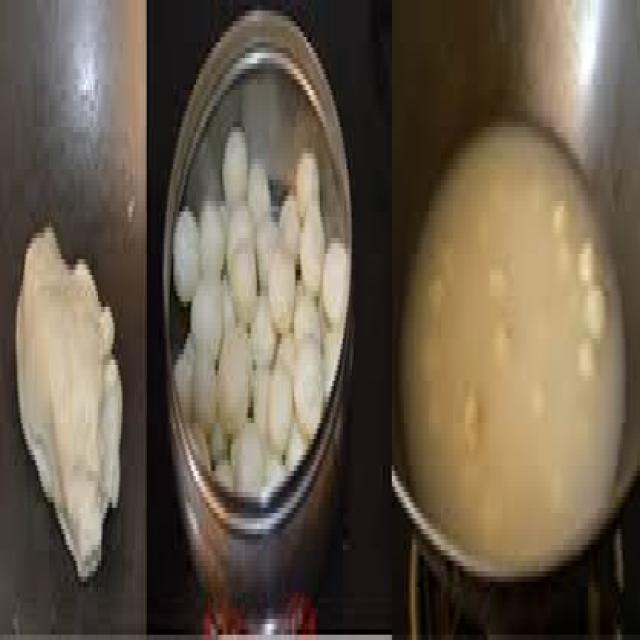paal kolukattai: (397, 40, 623, 558)
